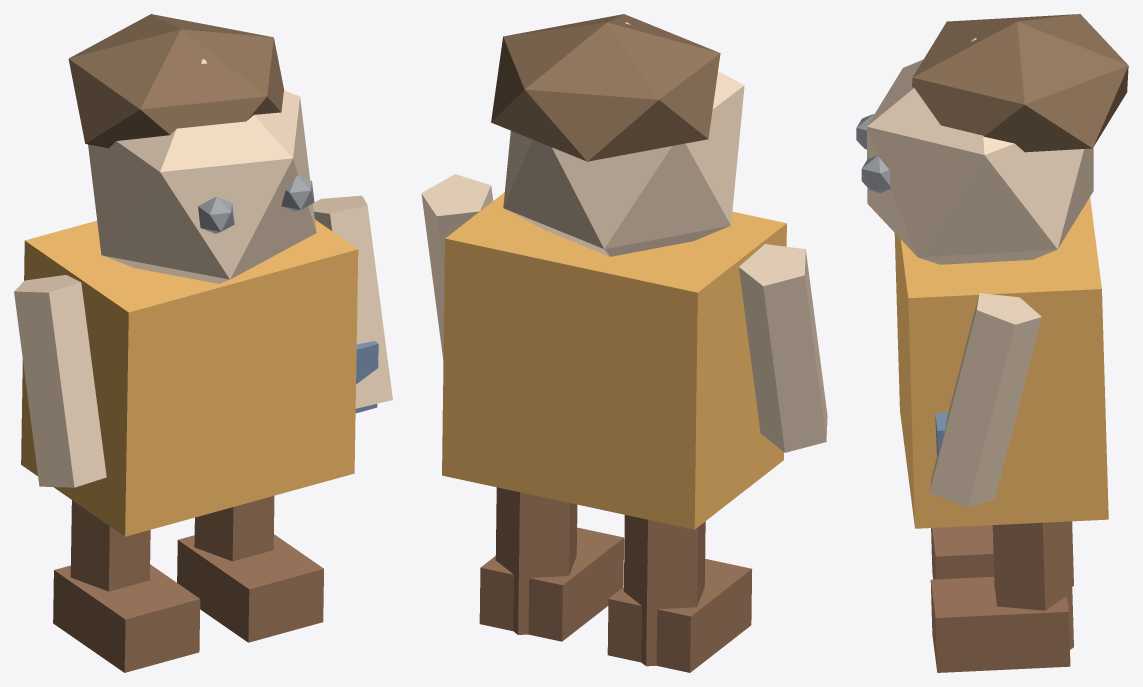
Rendered from npcpose_villager_walk_02.glb.
3 renders of one model, left to right at view 1: azimuth 30°, elevation 25°; view 2: azimuth 150°, elevation 25°; view 3: azimuth 270°, elevation 25°, orthographic. The views are drawn at different scales.
Visible parts, largest first — view 1: npcpose; view 2: npcpose; view 3: npcpose.
Part boxes in pixels (bbox=[...]): npcpose: bbox=[14, 14, 392, 672]; npcpose: bbox=[421, 14, 827, 672]; npcpose: bbox=[856, 14, 1128, 672].
Bounding box in the file's own units: 0.701 × 1.09 × 0.449.
